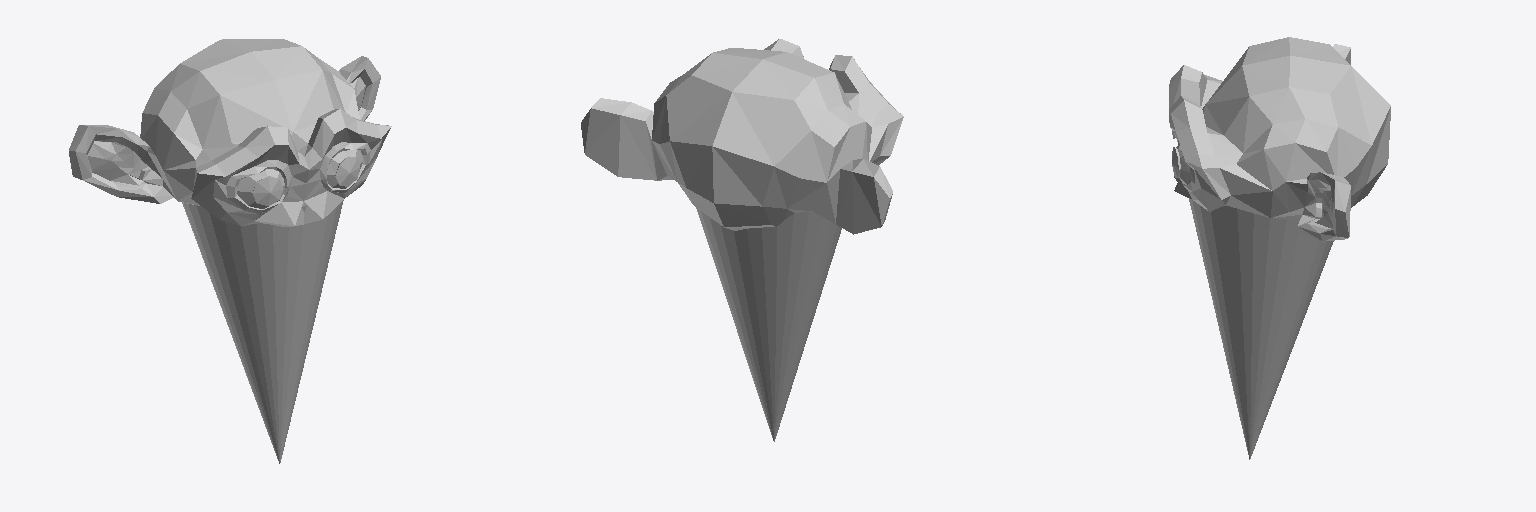
The model's file is IceCream.obj.
3 views of the same model, side by side, from view 1: azimuth 30°, elevation 25°; view 2: azimuth 150°, elevation 25°; view 3: azimuth 270°, elevation 25° (orthographic).
Parts seen in each view (by area): view 1: Cone; view 2: Cone; view 3: Cone.
Boxes of the visible parts, <box> form: Cone: <box>69,39,391,463</box>; Cone: <box>581,39,903,441</box>; Cone: <box>1169,37,1390,459</box>.
Size of the model in its own units: 2.73 by 3.38 by 1.7.